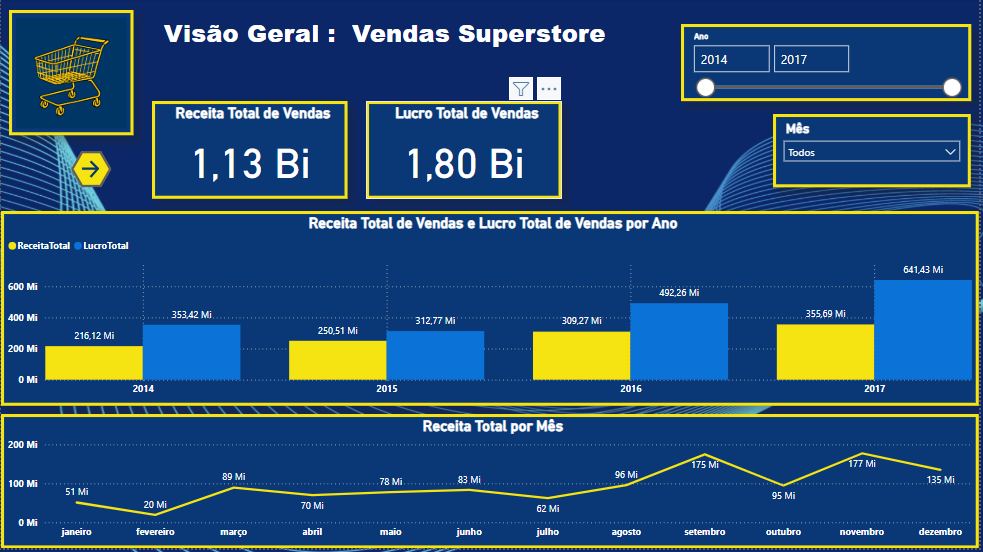

This screenshot's page, from the dashboard's own definition file:
{"tool":"powerbi","page":{"name":"Visão Geral","canvas":[1280,720],"ordinal":0},"visuals":[{"type":"textbox","box":[10.1,0,983.5,97.9],"z":0},{"type":"image","box":[10.1,15.8,162.7,164.2],"z":1000},{"type":"card","title":"Receita Total de Vendas","fields":{"Values":["Medidas.ReceitaTotal"]},"box":[197.3,135.4,256.3,128.2],"z":2000},{"type":"card","title":"Lucro Total de Vendas","fields":{"Values":["Medidas.LucroTotal"]},"box":[478.1,135.4,256.3,128.2],"z":3000},{"type":"clusteredColumnChart","title":"Receita Total de Vendas e Lucro Total de Vendas por Ano ","fields":{"Y":["Medidas.ReceitaTotal","Medidas.LucroTotal"],"Category":["PEDIDOS.Ano do Pedido"]},"box":[0,279.4,1280.2,254.9],"z":4000},{"type":"lineChart","fields":{"Category":["PEDIDOS.Data do Pedido.Variation.Hierarquia de datas.Trimestre","PEDIDOS.Data do Pedido.Variation.Hierarquia de datas.Mês","PEDIDOS.Data do Pedido.Variation.Hierarquia de datas.Dia"],"Y":["Medidas.ReceitaTotal"]},"box":[0,544,1280,176],"z":5000},{"type":"slicer","fields":{"Values":["PEDIDOS.Data do Pedido.Variation.Hierarquia de datas.Ano"]},"box":[889.9,34.6,380.2,100.8],"z":6000},{"type":"slicer","fields":{"Values":["PEDIDOS.Data do Pedido.Variation.Hierarquia de datas.Mês"]},"box":[1010.9,151.2,259.2,96.5],"z":7000},{"type":"actionButton","box":[92.2,200.2,53.3,47.5],"z":8000}]}

Visuals, with their boxes in screenshot pixels (x1, y1, x2, y2), scaled from the page's 1280x720 canvas onto the 983x552 screenshot:
textbox: (left=8, top=0, right=763, bottom=75)
image: (left=8, top=12, right=133, bottom=138)
"Receita Total de Vendas" card: (left=152, top=104, right=348, bottom=202)
"Lucro Total de Vendas" card: (left=367, top=104, right=564, bottom=202)
"Receita Total de Vendas e Lucro Total de Vendas por Ano " clusteredColumnChart: (left=0, top=214, right=982, bottom=410)
lineChart - PEDIDOS.Data do Pedido.Variation.Hierarquia de datas.Trimestre x PEDIDOS.Data do Pedido.Variation.Hierarquia de datas.Mês: (left=0, top=417, right=982, bottom=551)
slicer - PEDIDOS.Data do Pedido.Variation.Hierarquia de datas.Ano: (left=683, top=27, right=975, bottom=104)
slicer - PEDIDOS.Data do Pedido.Variation.Hierarquia de datas.Mês: (left=776, top=116, right=975, bottom=190)
actionButton: (left=71, top=153, right=112, bottom=190)
